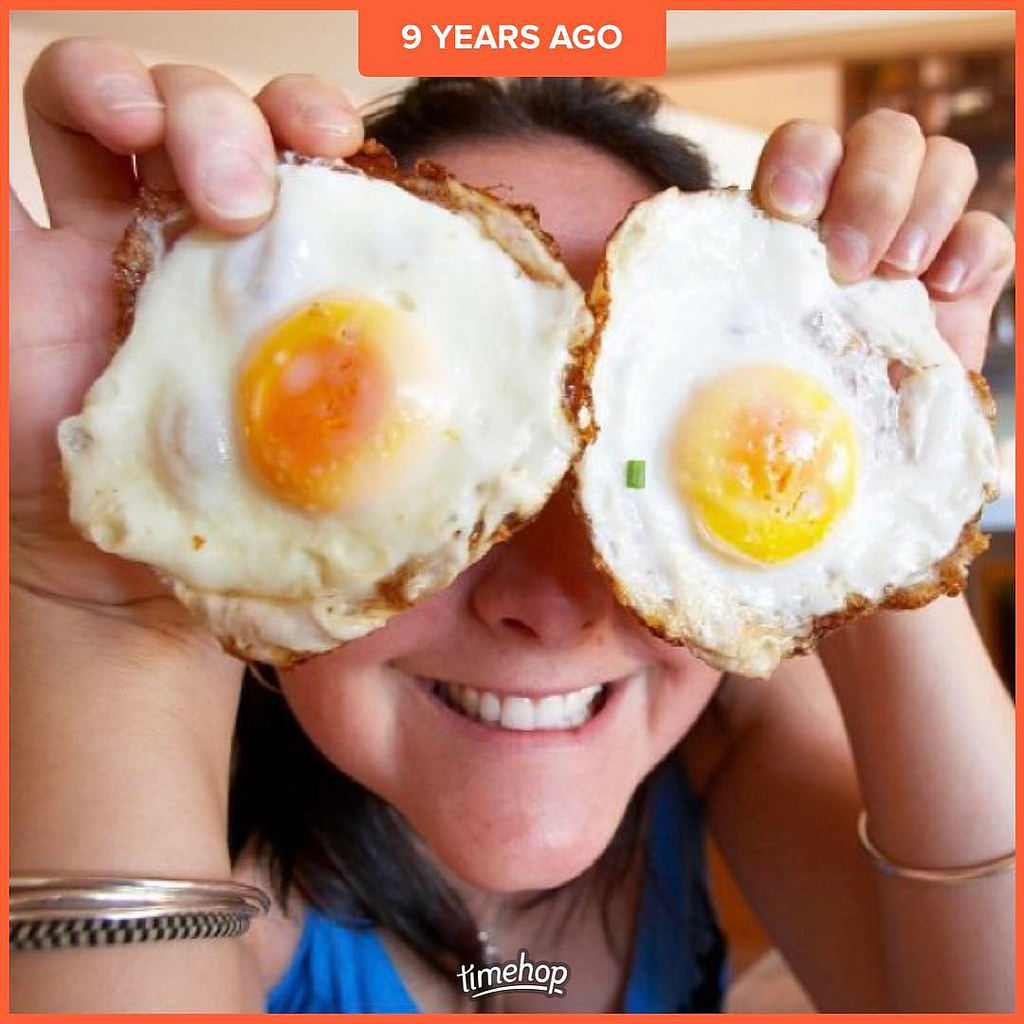fried egg: (104, 173, 540, 591), (609, 209, 952, 625)
